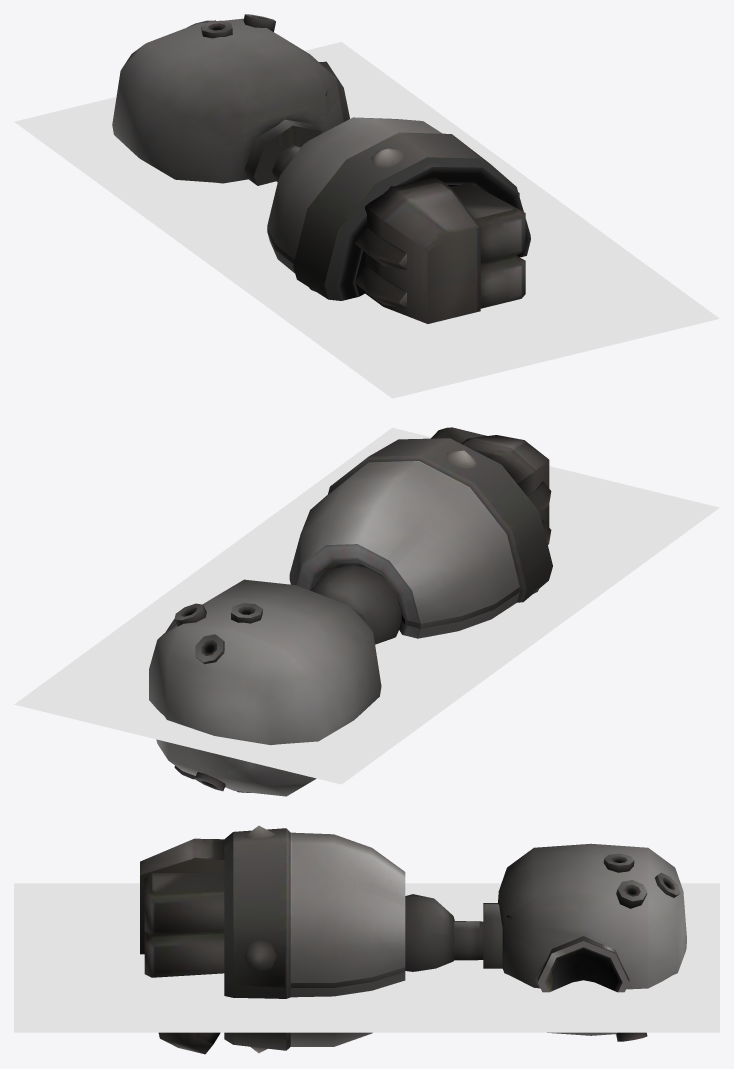
The model's file is iron_teatans_arm.fbx.
The picture shows the model from 3 angles, top to bottom: view 1: azimuth 30°, elevation 25°; view 2: azimuth 150°, elevation 25°; view 3: azimuth 270°, elevation 25°; orthographic projection. The views are drawn at different scales.
Parts seen in each view (by area): view 1: real_mesh, shadow; view 2: real_mesh, shadow; view 3: real_mesh, shadow.
Part boxes in pixels (left/top/right/bottom): real_mesh: left=112, top=14, right=530, bottom=323; shadow: left=14, top=42, right=719, bottom=398; real_mesh: left=149, top=427, right=552, bottom=796; shadow: left=14, top=427, right=719, bottom=784; real_mesh: left=140, top=825, right=686, bottom=1054; shadow: left=14, top=883, right=719, bottom=1032.
Bounding box in the file's own units: 2.4 × 1.52 × 4.8.
2 materials, 2 textured.
